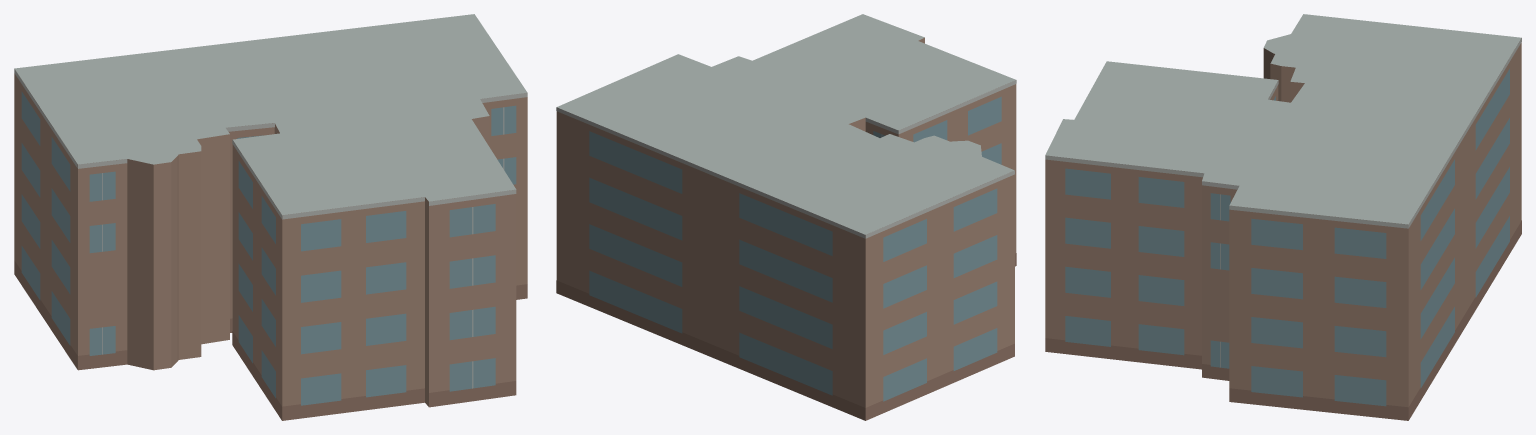
File: survey-upis-32751863.glb
The picture shows the model from 3 angles, left to right: view 1: azimuth 30°, elevation 25°; view 2: azimuth 150°, elevation 25°; view 3: azimuth 270°, elevation 25°; orthographic projection. The views are drawn at different scales.
Visible parts, largest first — view 1: survey-upis-32751863.tmp; view 2: survey-upis-32751863.tmp; view 3: survey-upis-32751863.tmp.
Part boxes in pixels (bbox=[...]): survey-upis-32751863.tmp: bbox=[14, 14, 527, 420]; survey-upis-32751863.tmp: bbox=[556, 14, 1016, 420]; survey-upis-32751863.tmp: bbox=[1045, 14, 1521, 420].
Size of the model in its own units: 26.56 by 11.55 by 25.41.
